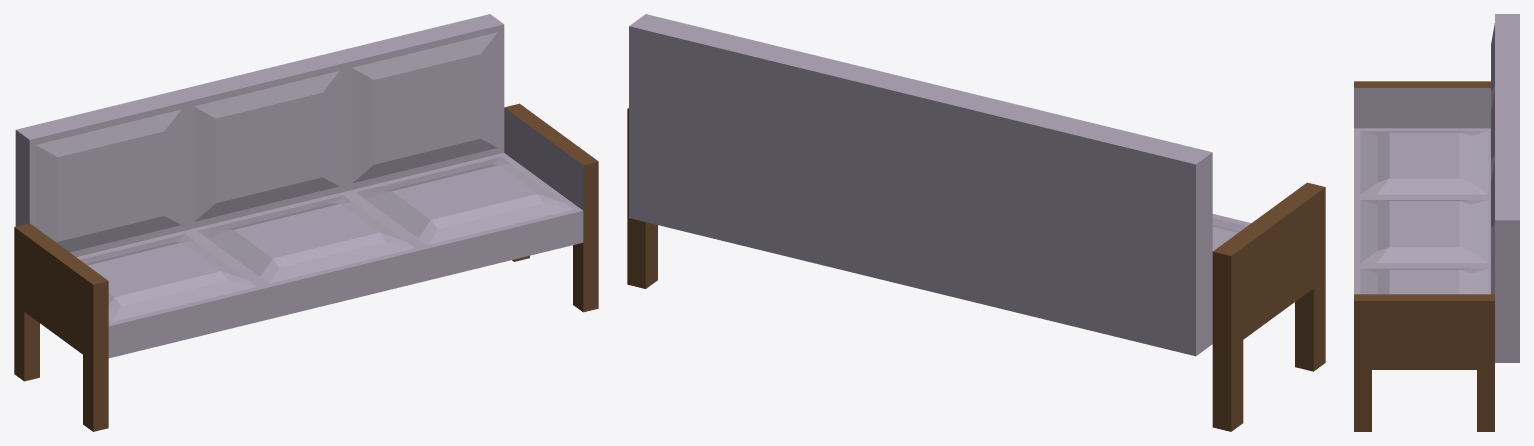
File: sofa.fbx
3 renders of one model, left to right at view 1: azimuth 30°, elevation 25°; view 2: azimuth 150°, elevation 25°; view 3: azimuth 270°, elevation 25°, orthographic. The views are drawn at different scales.
Parts seen in each view (by area): view 1: sofa; view 2: sofa; view 3: sofa.
Boxes of the visible parts, x1,y1,x2,y2 form: sofa: [14, 14, 598, 431]; sofa: [627, 14, 1325, 431]; sofa: [1354, 14, 1519, 431].
Bounding box in the file's own units: 3.73 × 1.62 × 1.19.
